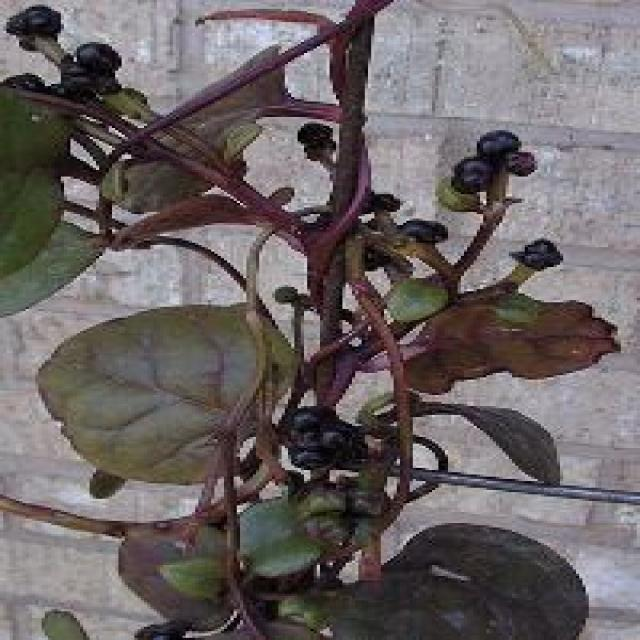Medicinal-Basale: (0, 4, 618, 640)
